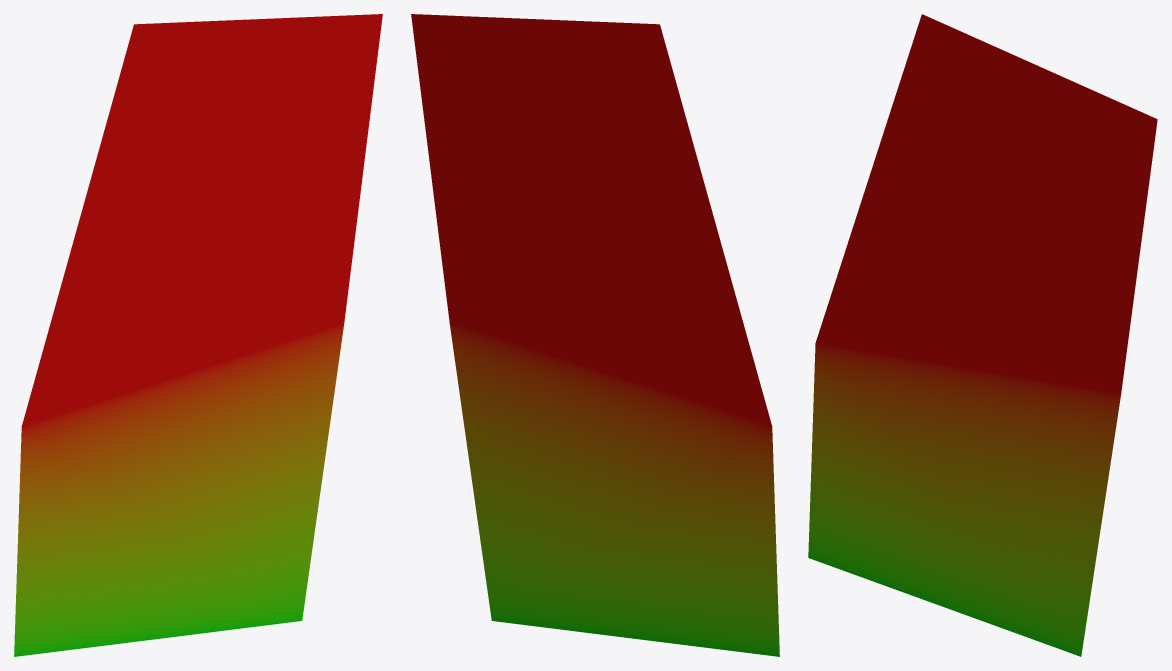
The model's file is Wheat Grass_LOD3_Var5_tdcrdbur.fbx.
3 views of the same model, side by side, from view 1: azimuth 30°, elevation 25°; view 2: azimuth 150°, elevation 25°; view 3: azimuth 330°, elevation 25° (orthographic). The views are drawn at different scales.
Parts seen in each view (by area): view 1: _3f26_Var5_LOD3; view 2: _3f26_Var5_LOD3; view 3: _3f26_Var5_LOD3.
Part boxes in pixels (x1,y1,x2,y2): _3f26_Var5_LOD3: (14,14,382,656); _3f26_Var5_LOD3: (411,14,779,656); _3f26_Var5_LOD3: (808,14,1157,656).
Bounding box in the file's own units: 40.11 × 66.27 × 1.24e-05.
